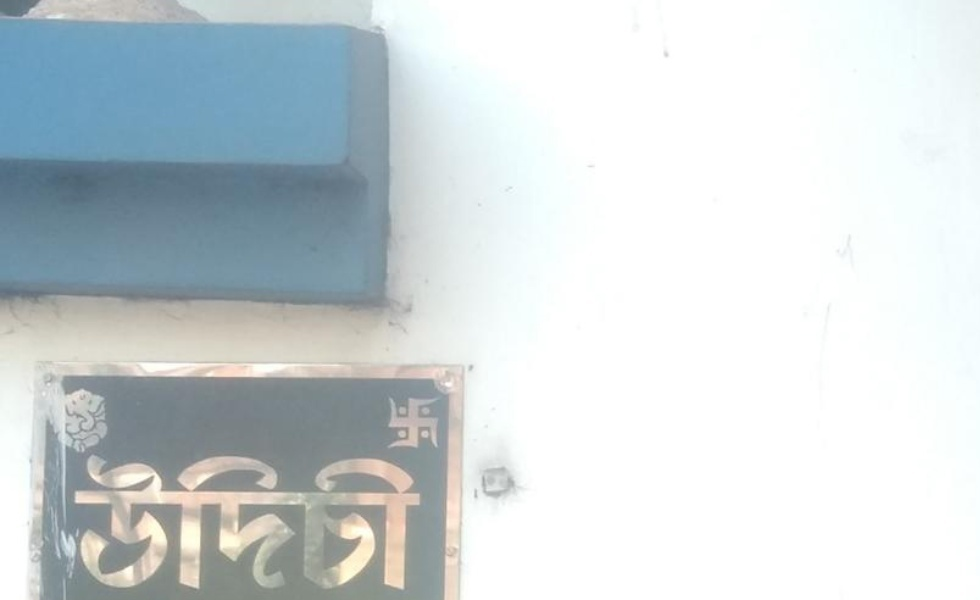text: (81, 444, 96, 596), (97, 444, 112, 596), (113, 444, 128, 596), (129, 444, 144, 596), (145, 444, 160, 596), (161, 444, 176, 596), (177, 444, 192, 596), (193, 444, 208, 596), (209, 444, 224, 596), (225, 444, 240, 596), (241, 444, 256, 596), (257, 444, 272, 596), (273, 444, 288, 596), (289, 444, 304, 596), (305, 444, 320, 596), (321, 444, 336, 596), (337, 444, 352, 596), (353, 444, 368, 596), (369, 444, 384, 596), (385, 444, 400, 596), (401, 444, 416, 596), (417, 444, 427, 596), (71, 444, 80, 596), (385, 391, 400, 455), (401, 391, 416, 455), (417, 391, 432, 455), (433, 391, 448, 455), (382, 391, 384, 455), (449, 391, 450, 455)
